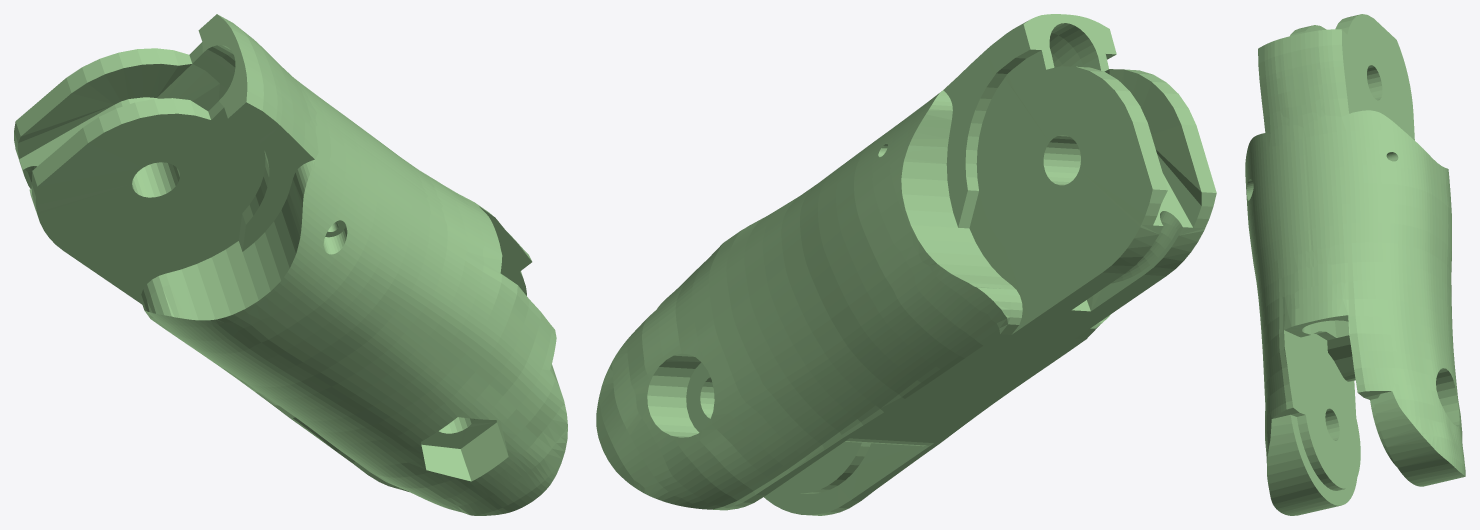
File: i02_leftHand_ThumbMid_visual.obj
3 renders of one model, left to right at view 1: azimuth 30°, elevation 25°; view 2: azimuth 150°, elevation 25°; view 3: azimuth 270°, elevation 25°, orthographic. The views are drawn at different scales.
Visible parts, largest first — view 1: i02_leftHand_ThumbMid_visual.001; view 2: i02_leftHand_ThumbMid_visual.001; view 3: i02_leftHand_ThumbMid_visual.001.
Boxes of the visible parts, left/top/right/bottom form: i02_leftHand_ThumbMid_visual.001: left=14, top=14, right=567, bottom=515; i02_leftHand_ThumbMid_visual.001: left=596, top=14, right=1216, bottom=515; i02_leftHand_ThumbMid_visual.001: left=1245, top=14, right=1465, bottom=515.
Size of the model in its own units: 0.4503 by 0.4356 by 0.2184.
